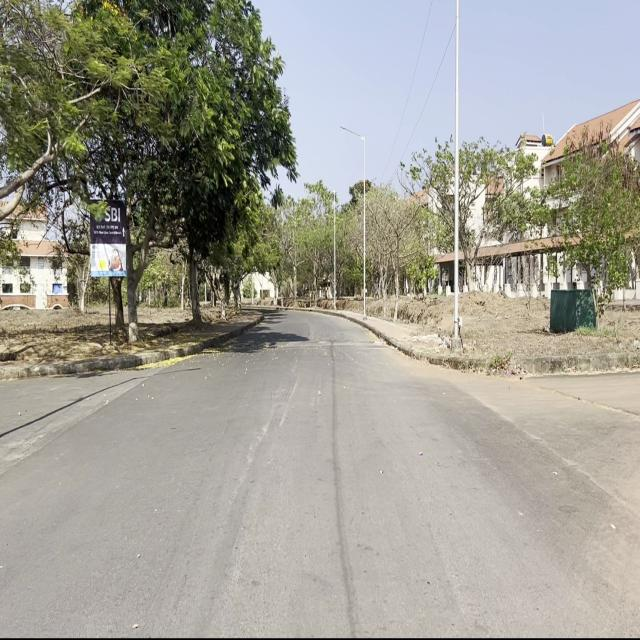Road: (2, 307, 635, 632)
